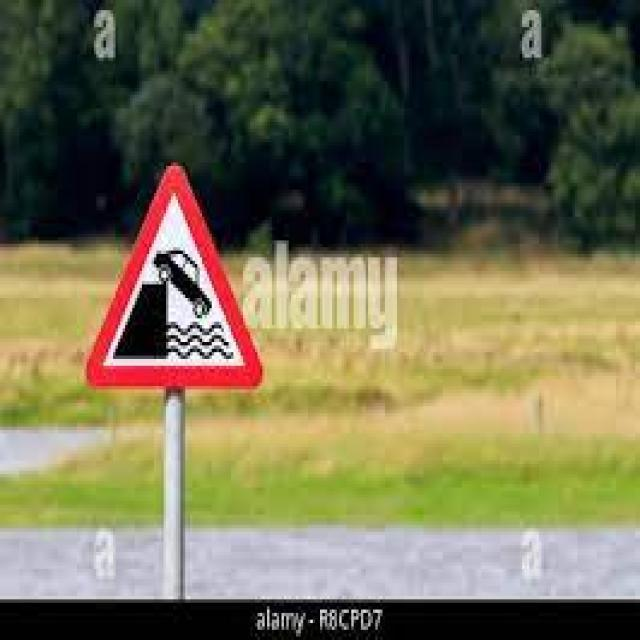quay side or river bank: (79, 159, 269, 396)
